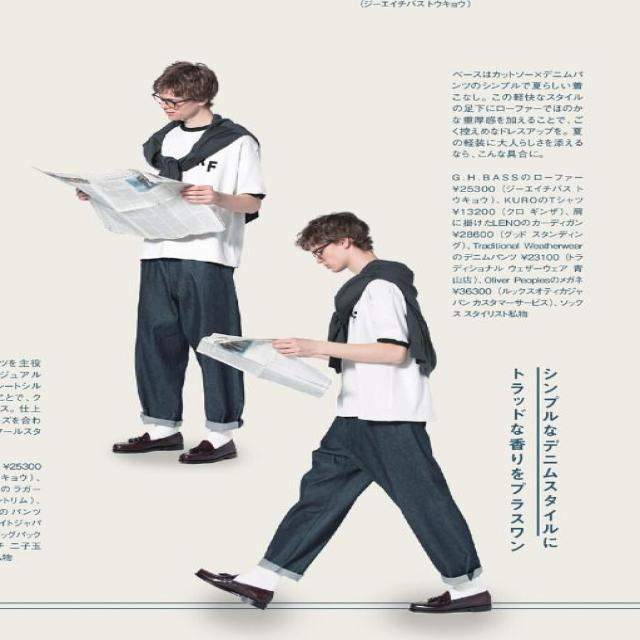person: (194, 211, 492, 613), (74, 60, 267, 464)
